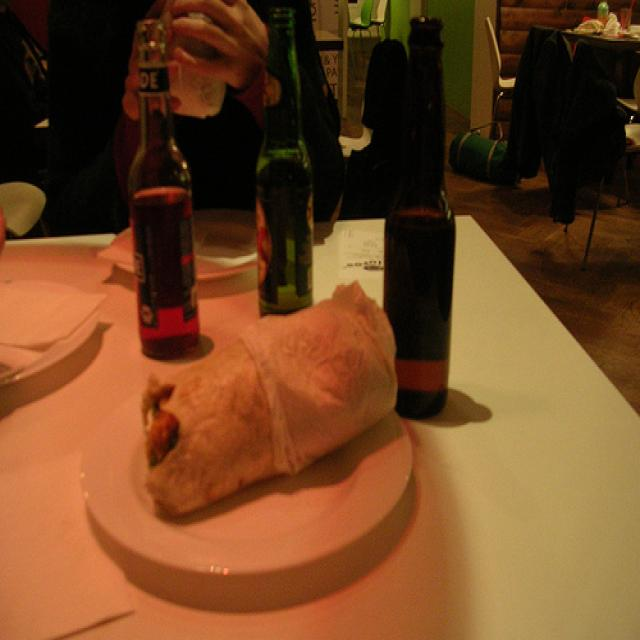Bottle: (128, 33, 199, 359), (397, 1, 446, 422), (259, 0, 316, 310)
Table: (0, 206, 640, 640)
